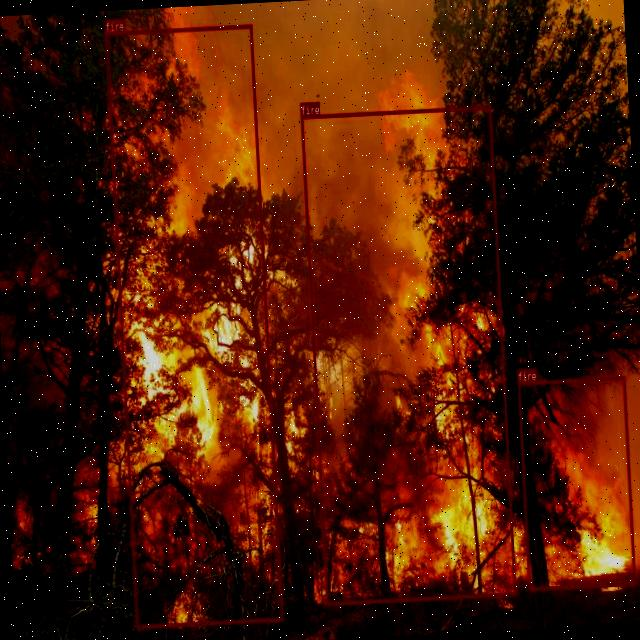fire: (300, 106, 516, 605), (105, 24, 283, 628), (517, 377, 636, 590)
